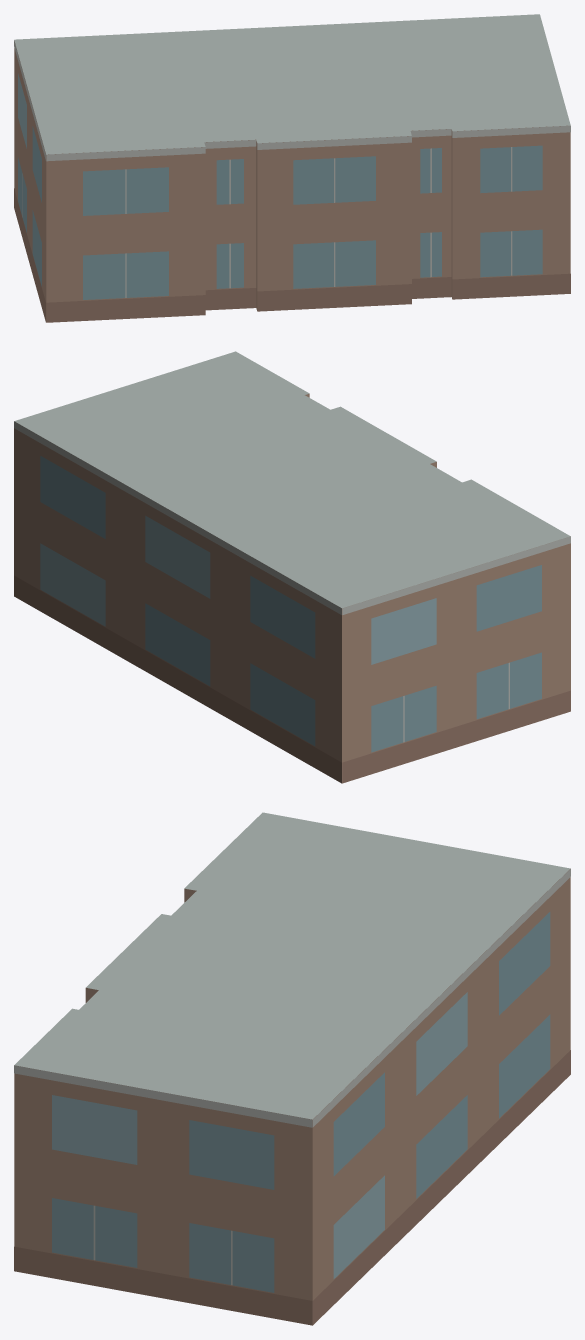
Rendered from survey-upis-32990774.glb.
3 views of the same model, one above another, from view 1: azimuth 30°, elevation 25°; view 2: azimuth 150°, elevation 25°; view 3: azimuth 270°, elevation 25° (orthographic). The views are drawn at different scales.
Parts seen in each view (by area): view 1: survey-upis-32990774.tmp; view 2: survey-upis-32990774.tmp; view 3: survey-upis-32990774.tmp.
Boxes of the visible parts, left/top/right/bottom form: survey-upis-32990774.tmp: left=14, top=14, right=570, bottom=322; survey-upis-32990774.tmp: left=14, top=351, right=570, bottom=783; survey-upis-32990774.tmp: left=14, top=812, right=570, bottom=1325.
Bounding box in the file's own units: 19.52 × 6.1 × 14.95.
